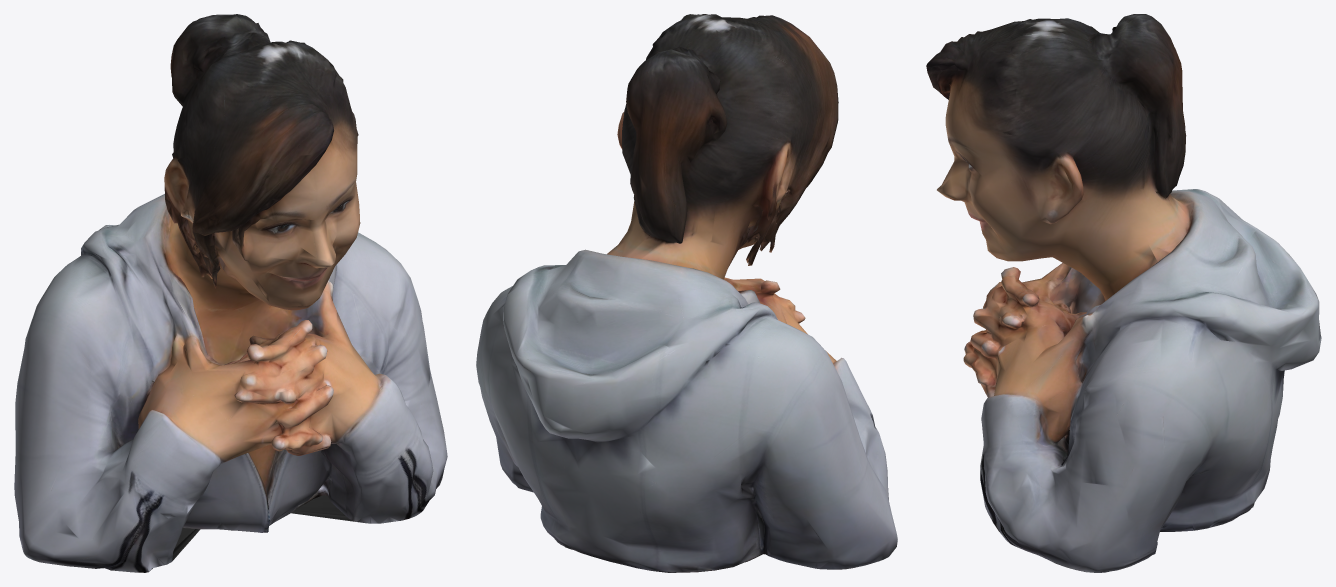
File: sylwetka-opt.glb
The picture shows the model from 3 angles, left to right: view 1: azimuth 30°, elevation 25°; view 2: azimuth 150°, elevation 25°; view 3: azimuth 270°, elevation 25°; orthographic projection. The views are drawn at different scales.
Visible parts, largest first — view 1: Mesh_0.002; view 2: Mesh_0.002; view 3: Mesh_0.002.
Part boxes in pixels (x1,y1,x2,y2): Mesh_0.002: (14,14,447,572); Mesh_0.002: (476,14,897,572); Mesh_0.002: (926,14,1321,572).
Bounding box in the file's own units: 1.19 × 1.33 × 1.03.
Materials: 2 (1 with a texture image).
